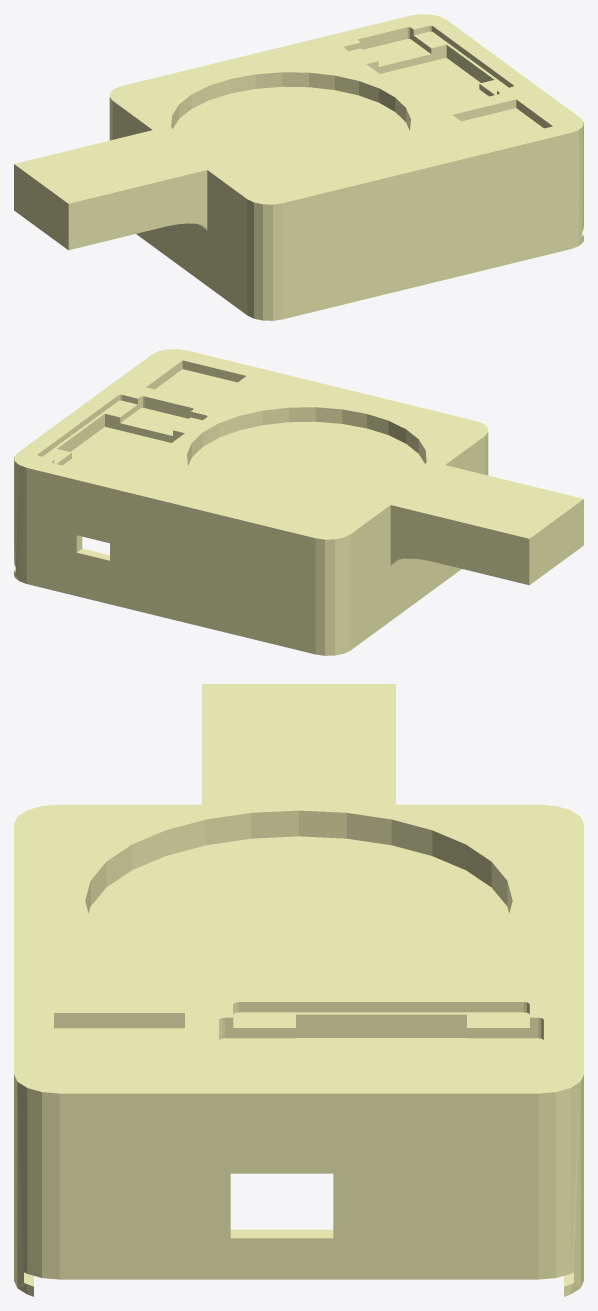
File: tray.dae
The picture shows the model from 3 angles, top to bottom: view 1: azimuth 30°, elevation 25°; view 2: azimuth 150°, elevation 25°; view 3: azimuth 270°, elevation 25°; orthographic projection. The views are drawn at different scales.
Parts seen in each view (by area): view 1: tray; view 2: tray; view 3: tray.
Part boxes in pixels (x1,y1,x2,y2): tray: (14,14,583,320); tray: (14,349,583,655); tray: (14,684,583,1296).
Bounding box in the file's own units: 0.17 × 0.1 × 0.04.
